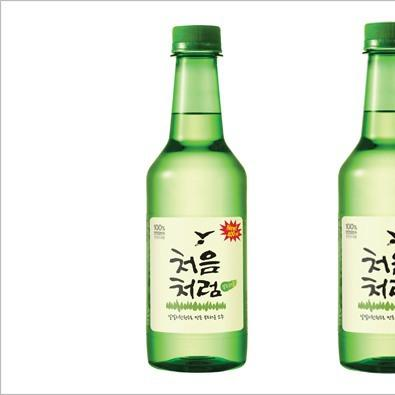soju: (143, 23, 255, 376), (330, 20, 395, 377)
